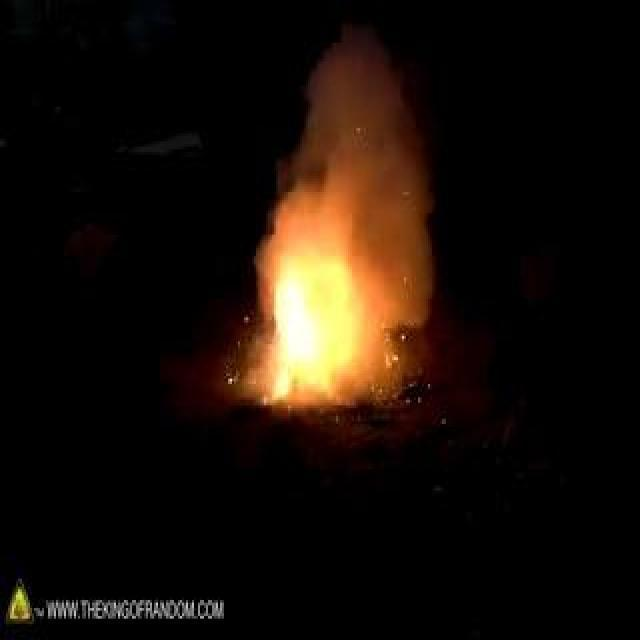Fire: (249, 254, 375, 416)
Smoke: (298, 65, 427, 272)
